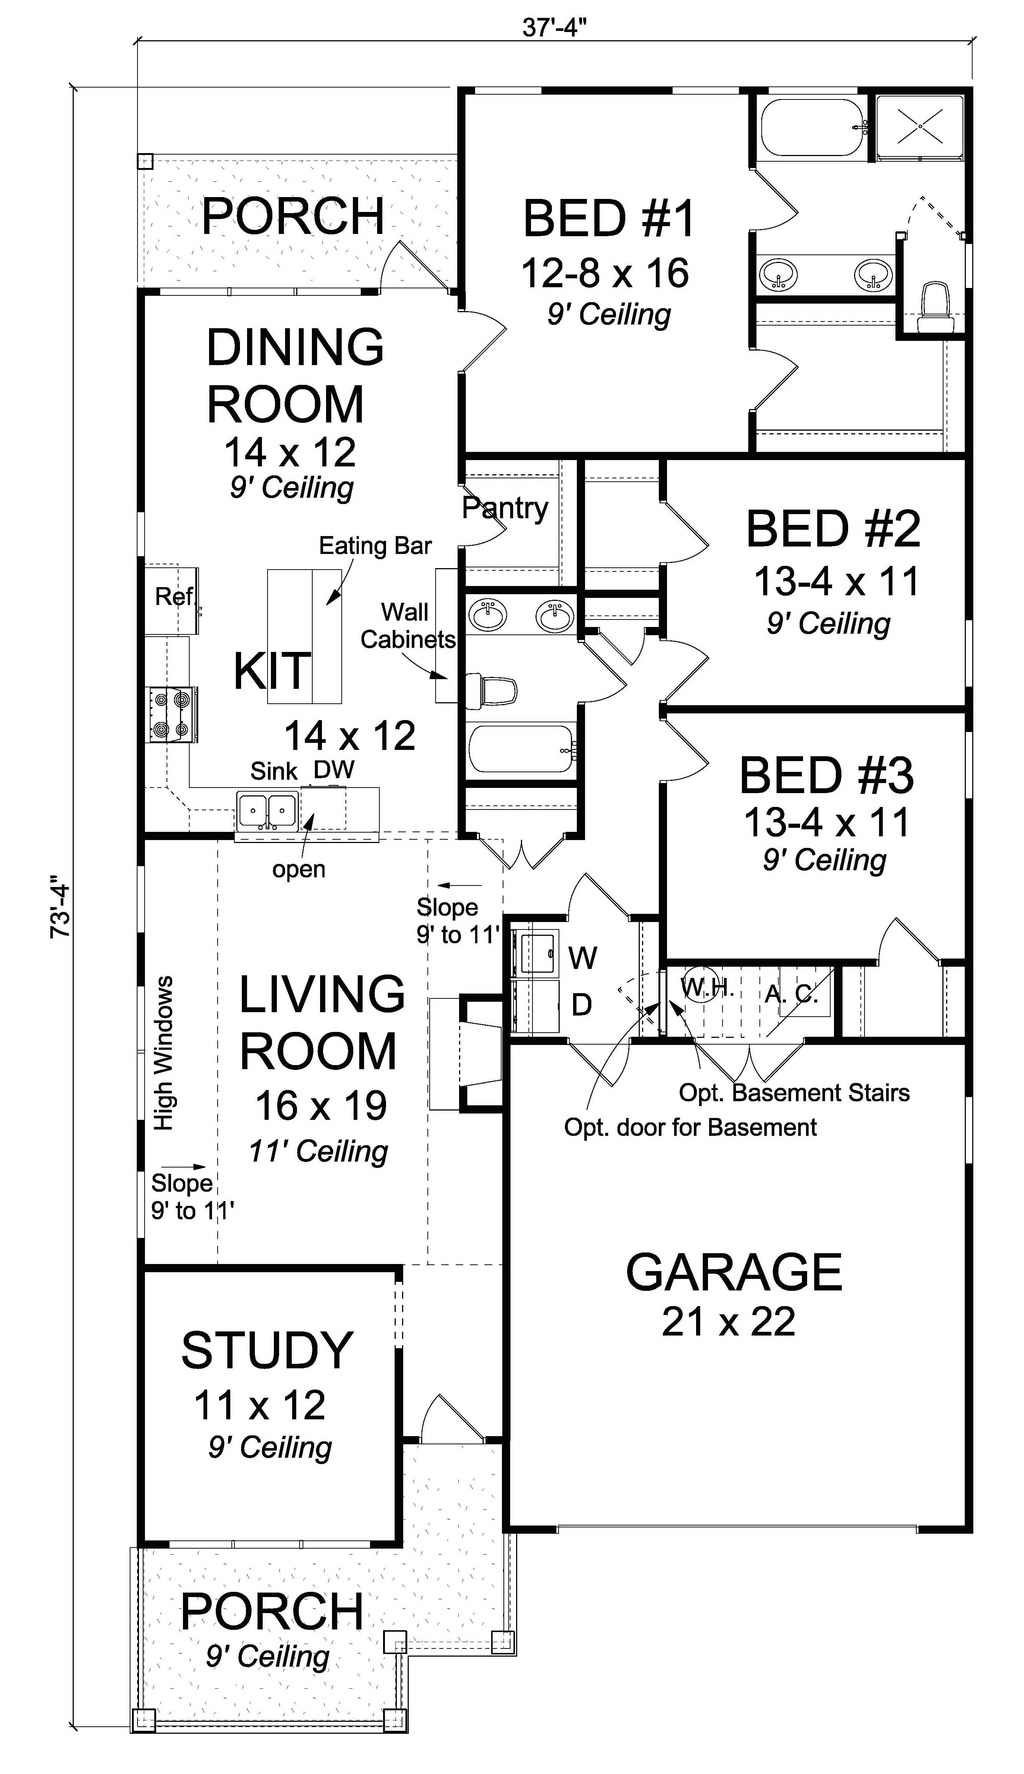door: (419, 292, 519, 394), (399, 1366, 510, 1446), (724, 154, 808, 253), (352, 214, 441, 296), (736, 331, 805, 424), (472, 824, 574, 885), (641, 713, 722, 788), (572, 1034, 663, 1099), (699, 1041, 811, 1090), (861, 904, 958, 956), (644, 496, 716, 563), (658, 632, 724, 704), (558, 863, 630, 924), (461, 490, 516, 550)
large_sink: (452, 663, 541, 721), (902, 270, 961, 340)
small_sink: (752, 251, 898, 307), (466, 576, 572, 640)
tub: (741, 88, 880, 157), (458, 710, 574, 779)
twin_sink: (230, 776, 313, 850)
window: (180, 1532, 369, 1563), (948, 724, 997, 804), (948, 1090, 972, 1168)
